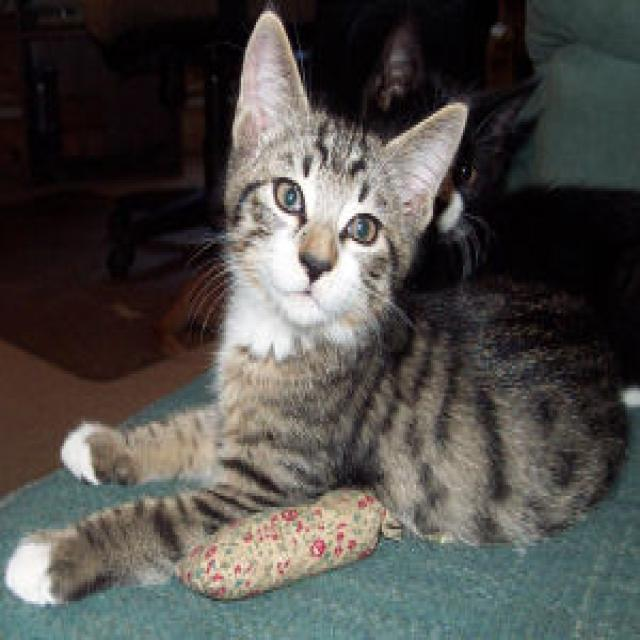Cats: (2, 3, 634, 607)
